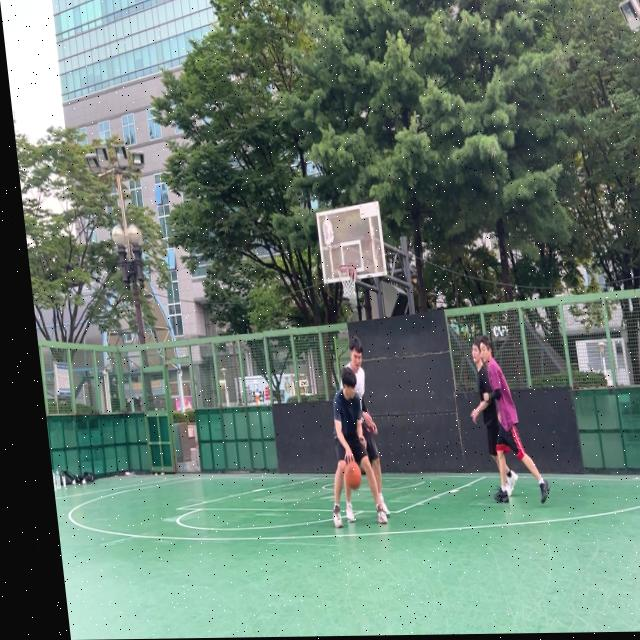basketball: (344, 460, 363, 489)
hoop: (337, 264, 360, 298)
